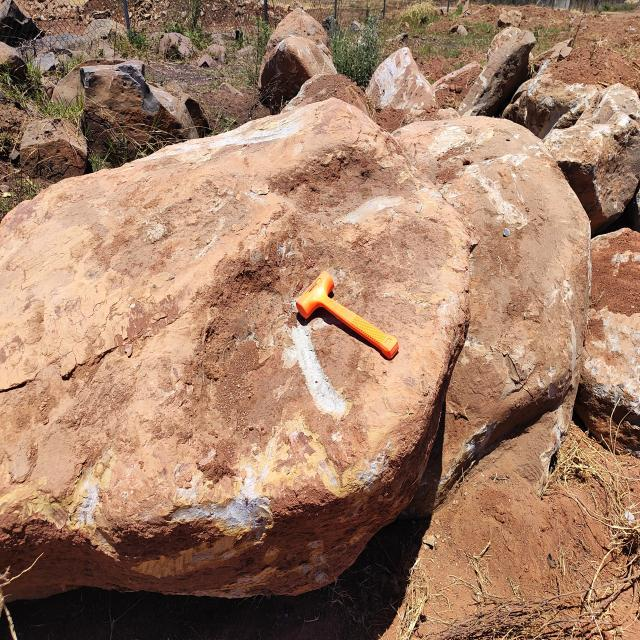Orange_hammer: (295, 270, 399, 361)
